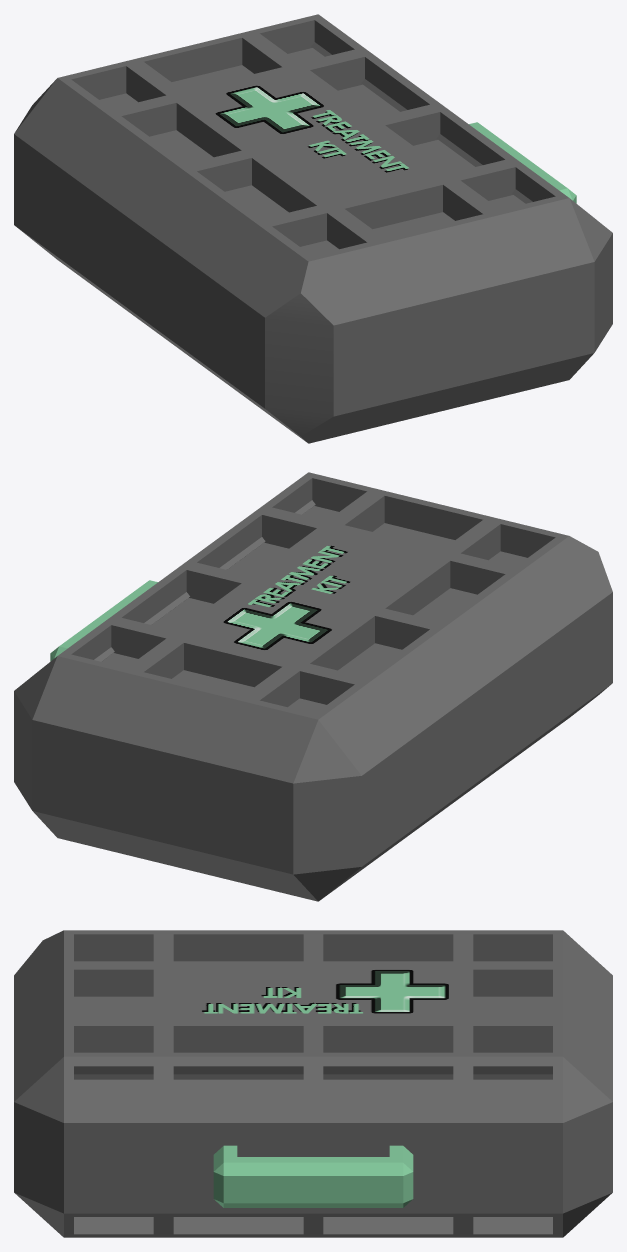
Rendered from RW_TREATMENTKIT.FBX.
3 renders of one model, top to bottom at view 1: azimuth 30°, elevation 25°; view 2: azimuth 150°, elevation 25°; view 3: azimuth 270°, elevation 25°, orthographic.
Parts seen in each view (by area): view 1: Box001, Box002; view 2: Box001, Box002; view 3: Box001, Box002.
Part boxes in pixels (x1,y1,x2,y2): Box001: (14,14,612,443); Box002: (469,122,576,203); Box001: (14,472,612,901); Box002: (50,580,157,661); Box001: (14,930,612,1237); Box002: (213,1145,413,1207).
Bounding box in the file's own units: 45.04 × 20 × 60.
2 materials, 2 textured.
